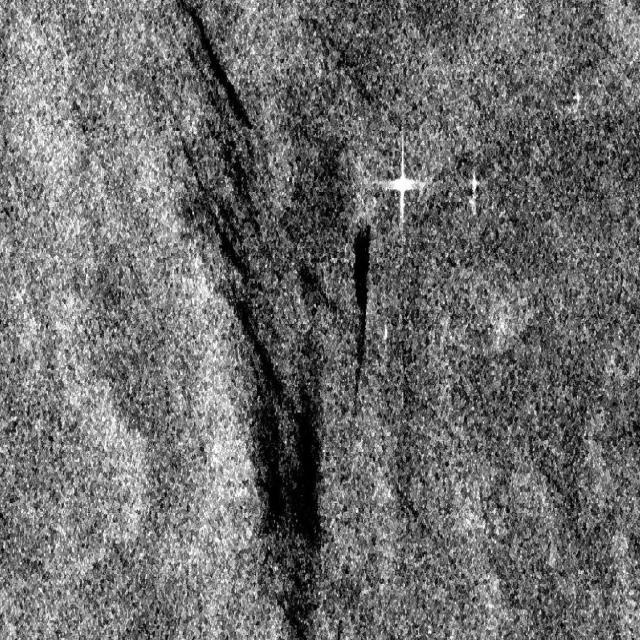look-alike: (273, 121, 357, 263)
oil-spill: (220, 257, 342, 639), (162, 3, 278, 320), (339, 221, 386, 423)
ship: (378, 118, 429, 236)
